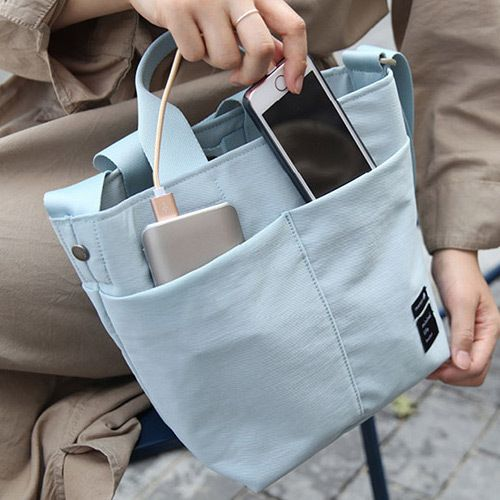nylon: (41, 29, 450, 494)
